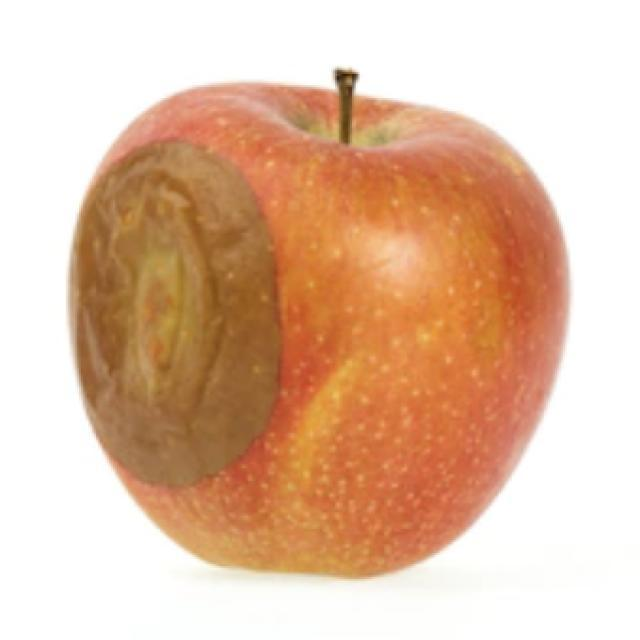Rotten: (63, 81, 580, 582)
